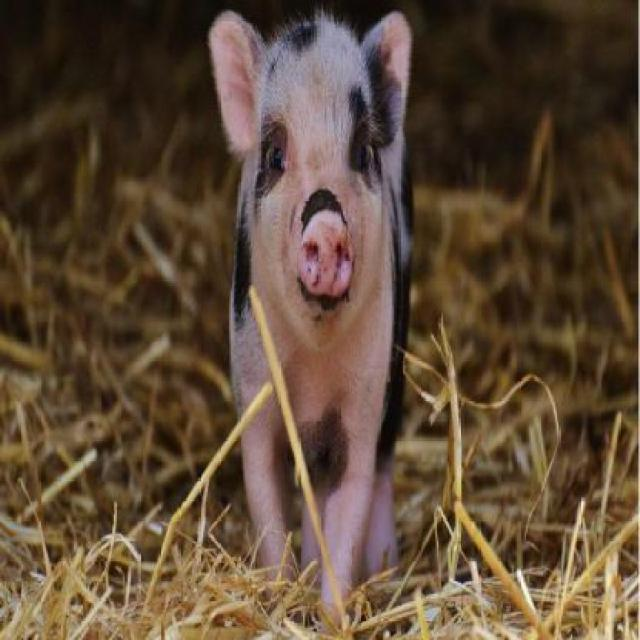pig: (210, 12, 410, 594), (241, 400, 294, 565)
